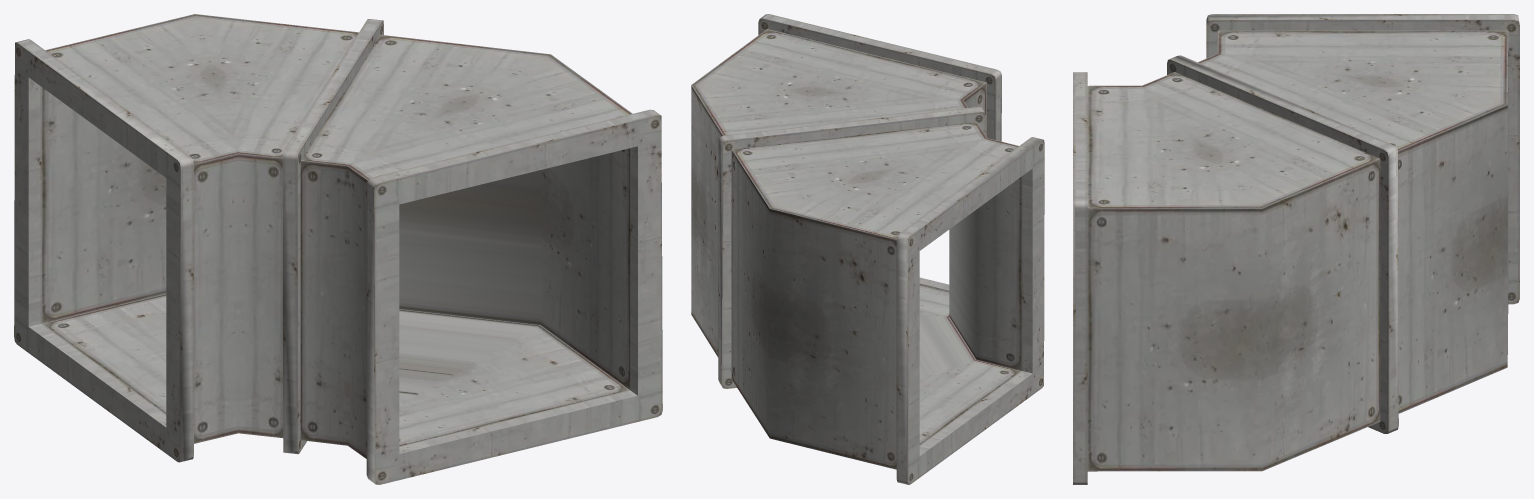
Rendered from vent_large_duct_corner.glb.
3 views of the same model, side by side, from view 1: azimuth 30°, elevation 25°; view 2: azimuth 150°, elevation 25°; view 3: azimuth 270°, elevation 25° (orthographic). The views are drawn at different scales.
Visible parts, largest first — view 1: vent_large_duct_corner; view 2: vent_large_duct_corner; view 3: vent_large_duct_corner.
Part boxes in pixels (x1,y1,x2,y2): vent_large_duct_corner: (14,14,662,484); vent_large_duct_corner: (691,14,1044,484); vent_large_duct_corner: (1073,14,1519,484).
Bounding box in the file's own units: 1.54 × 1.08 × 1.54.
1 material, 1 textured.
